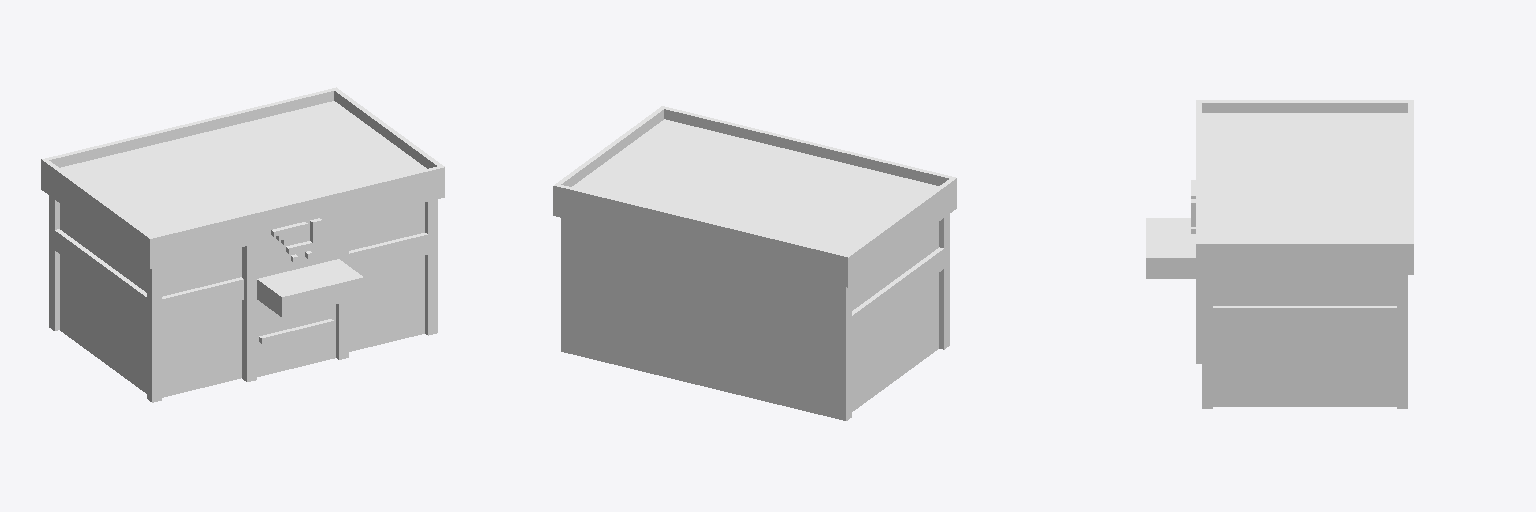
File: supermarket_b.obj
3 renders of one model, left to right at view 1: azimuth 30°, elevation 25°; view 2: azimuth 150°, elevation 25°; view 3: azimuth 270°, elevation 25°, orthographic.
Visible parts, largest first — view 1: object 1; view 2: object 1; view 3: object 1.
Boxes of the visible parts, <box> form: object 1: <box>41,87,444,402</box>; object 1: <box>553,106,956,420</box>; object 1: <box>1146,100,1413,408</box>.
Bounding box in the file's own units: 6.1 × 3.3 × 4.8.